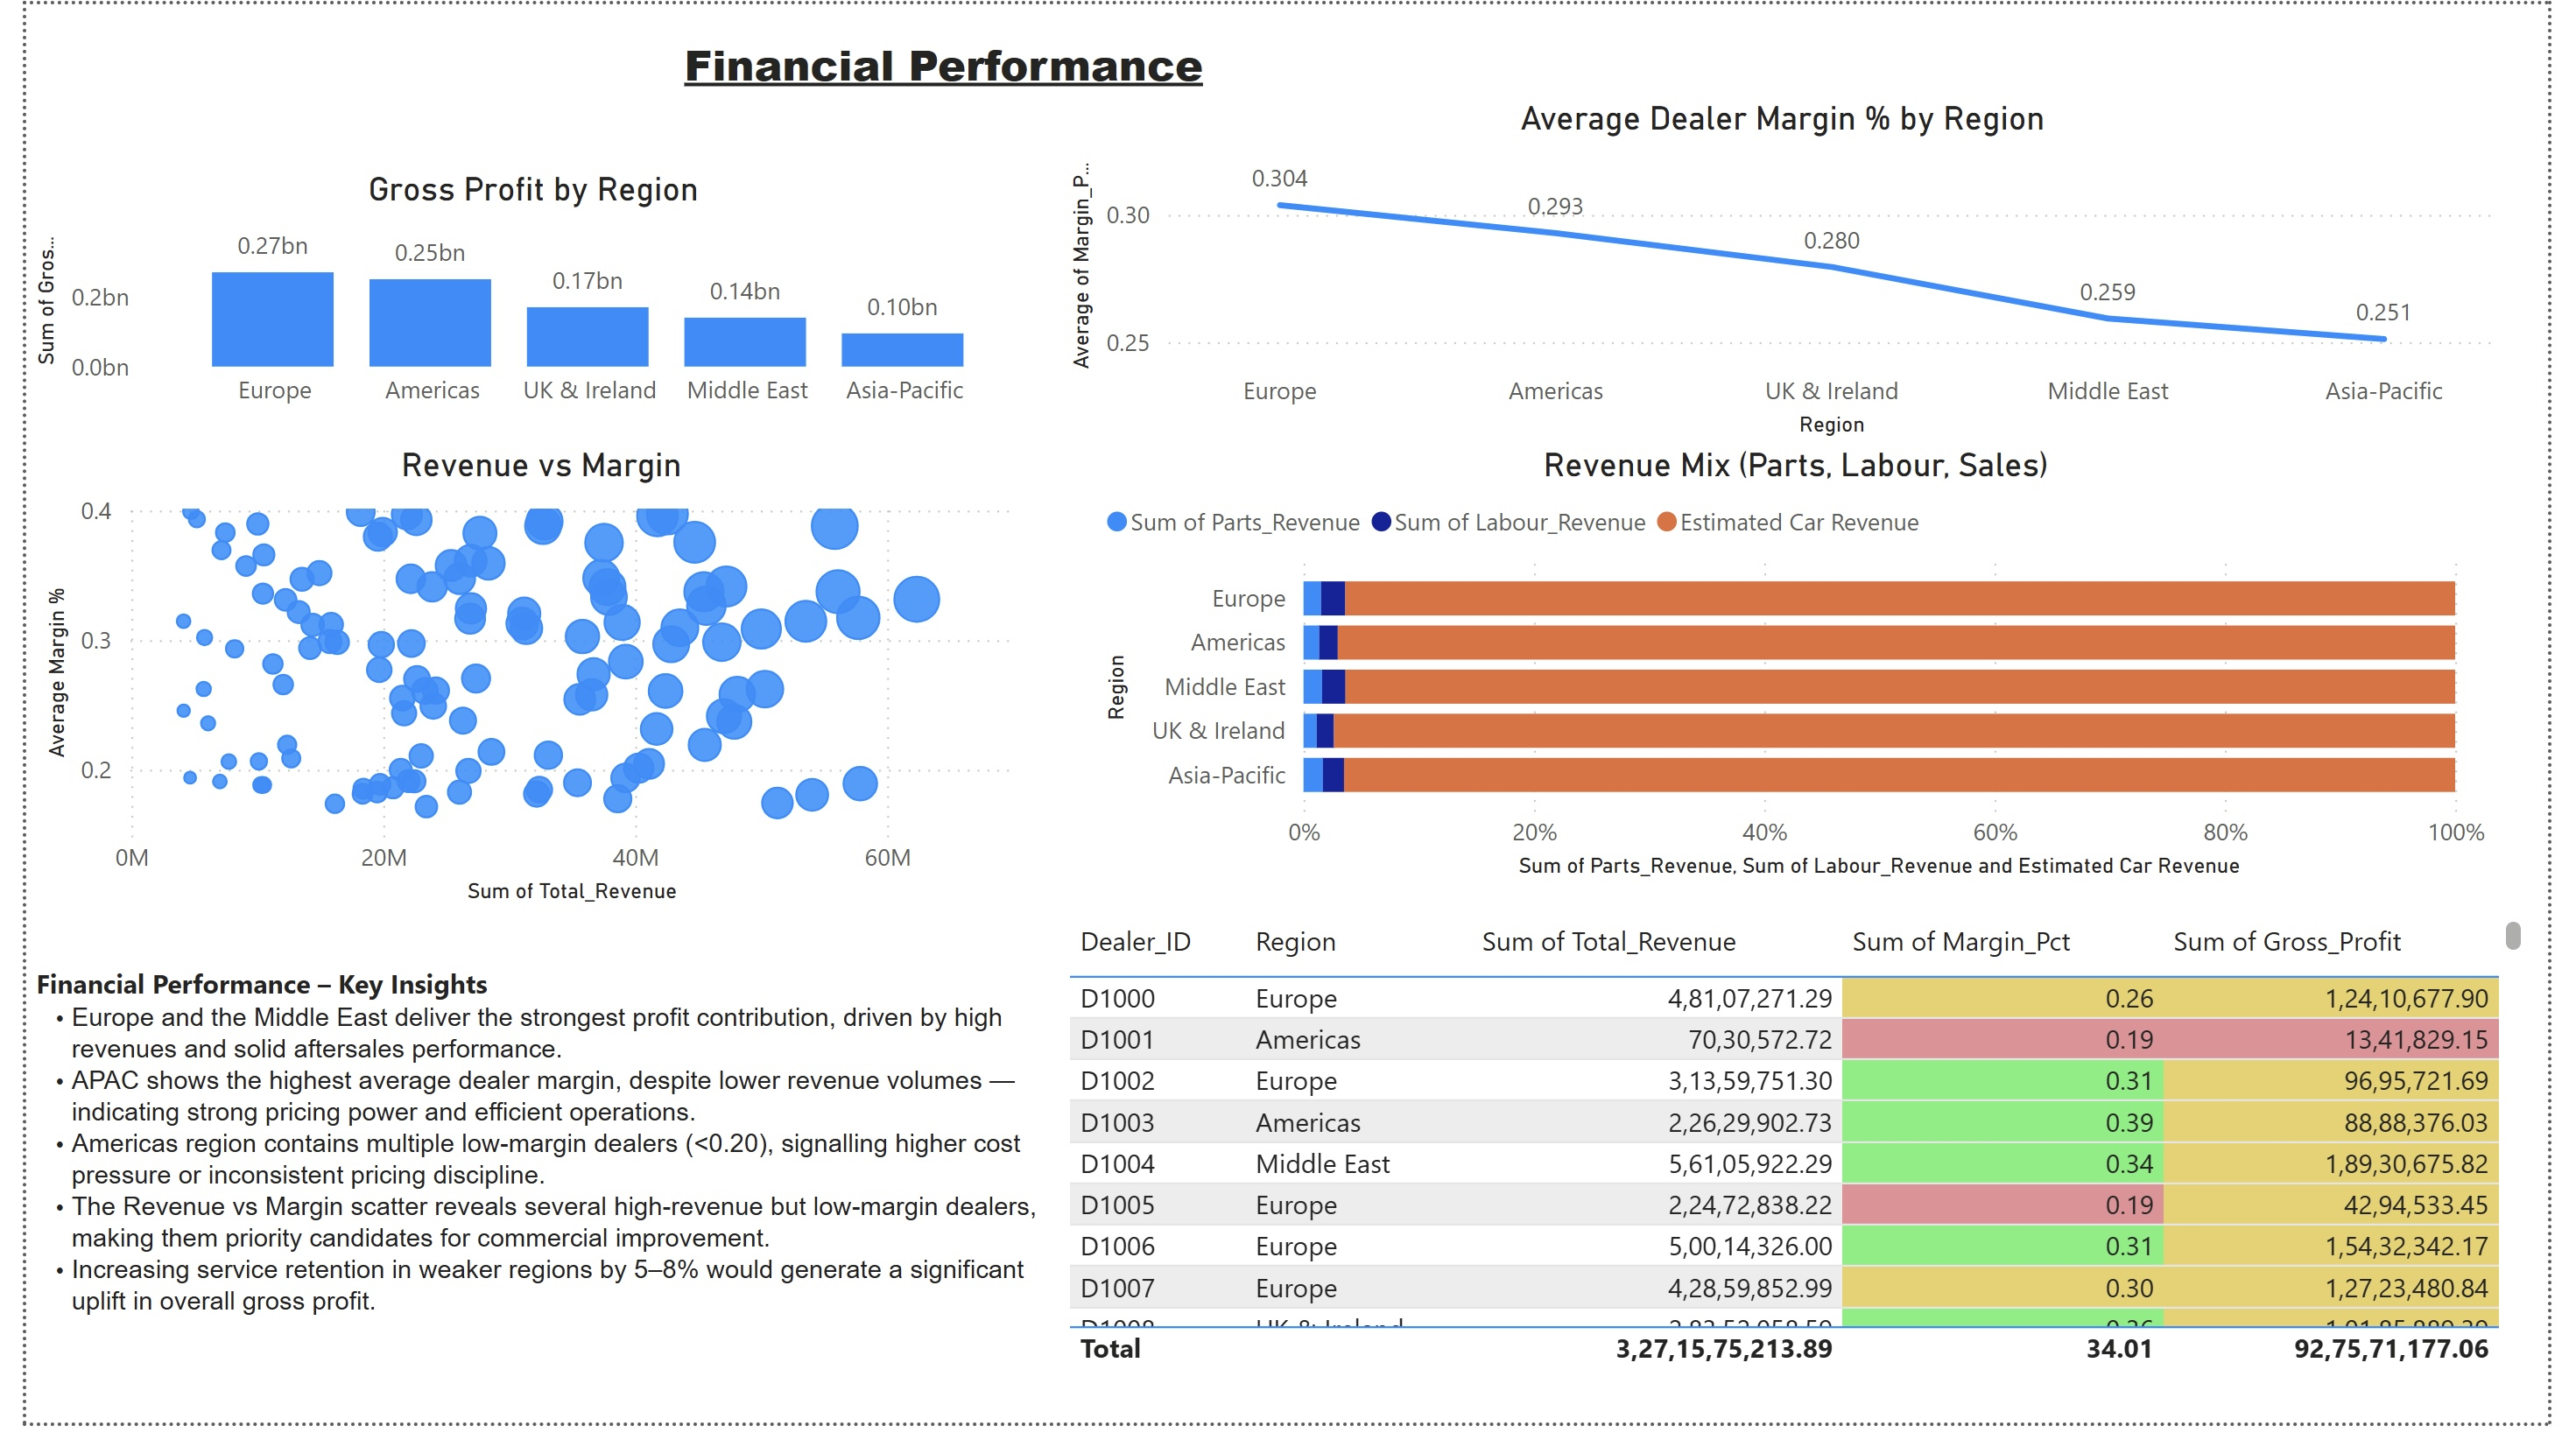

The page's visual inventory and layout, read from the dashboard file:
{"tool":"powerbi","page":{"name":"Financial Performance","canvas":[1280,720],"ordinal":4},"visuals":[{"type":"clusteredColumnChart","title":"Gross Profit by Region","fields":{"Category":["dealer_kpis_luxury.Region"],"Y":["Sum(dealer_kpis_luxury.Gross_Profit)"]},"box":[0,83.7,514.7,130.5],"z":0},{"type":"lineChart","title":"Average Dealer Margin % by Region","fields":{"Y":["Avg(dealer_kpis_luxury.Margin_Pct)"],"Category":["dealer_kpis_luxury.Region"]},"box":[524.5,48,733.9,176.1],"z":1000},{"type":"scatterChart","title":"Revenue vs Margin","fields":{"X":["Sum(dealer_kpis_luxury.Total_Revenue)"],"Y":["dealer_kpis_luxury.Average Margin %"],"Category":["dealer_kpis_luxury.Dealer_ID"],"Size":["Sum(dealer_kpis_luxury.Gross_Profit)"]},"box":[4.9,224.1,513.5,236.4],"z":2000},{"type":"hundredPercentStackedBarChart","title":"Revenue Mix (Parts, Labour, Sales)","fields":{"Category":["dealer_kpis_luxury.Region"],"Y":["Sum(dealer_kpis_luxury.Parts_Revenue)","Sum(dealer_kpis_luxury.Labour_Revenue)","dealer_kpis_luxury.Estimated Car Revenue"]},"box":[543,224.1,710.5,224.1],"z":3000},{"type":"tableEx","fields":{"Values":["dealer_kpis_luxury.Dealer_ID","dealer_kpis_luxury.Region","Sum(dealer_kpis_luxury.Total_Revenue)","Sum(dealer_kpis_luxury.Margin_Pct)","Sum(dealer_kpis_luxury.Gross_Profit)"]},"box":[524.4,460.5,747.7,236],"z":4000},{"type":"textbox","box":[0,482.6,524.4,237.2],"z":5000},{"type":"textbox","box":[328.8,9.9,300.4,49.3],"z":5001}]}

Visuals, with their boxes in screenshot pixels (x1, y1, x2, y2), scaled from the page's 1280x720 canvas onto the 2576x1454 screenshot:
"Gross Profit by Region" clusteredColumnChart: l=0, t=169, r=1036, b=432
"Average Dealer Margin % by Region" lineChart: l=1056, t=97, r=2532, b=453
"Revenue vs Margin" scatterChart: l=10, t=453, r=1044, b=930
"Revenue Mix (Parts, Labour, Sales)" hundredPercentStackedBarChart: l=1093, t=453, r=2523, b=905
tableEx - dealer_kpis_luxury.Dealer_ID x dealer_kpis_luxury.Region: l=1055, t=930, r=2560, b=1407
textbox: l=0, t=974, r=1055, b=1453
textbox: l=662, t=20, r=1266, b=120
